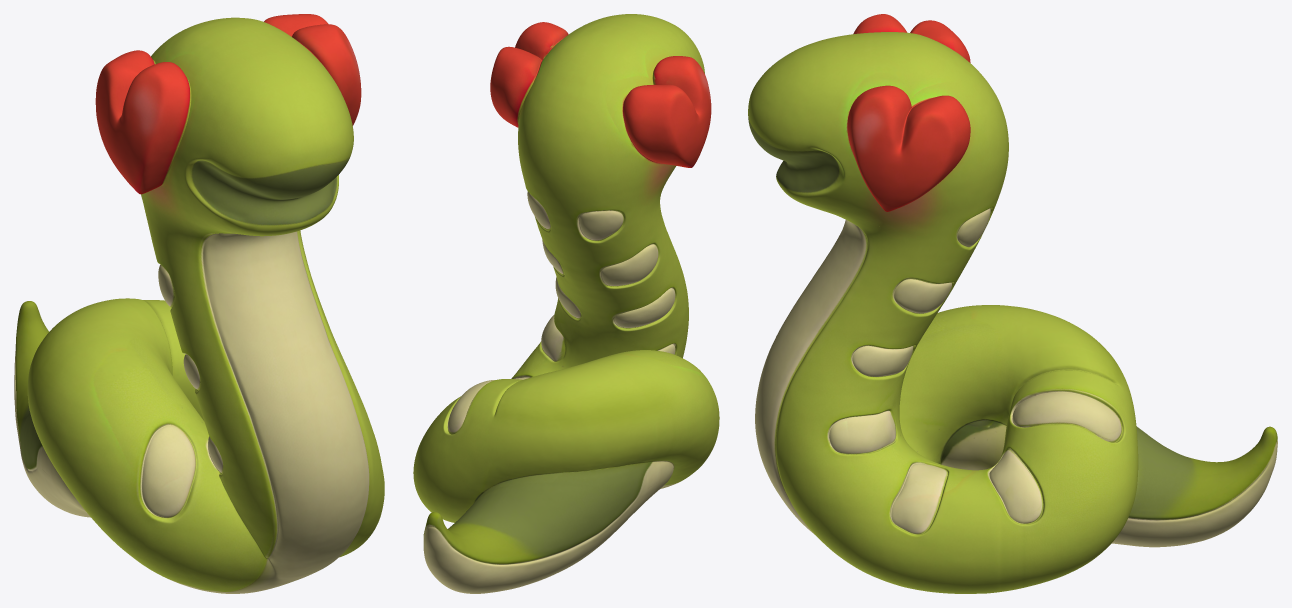
The model's file is snake_head.glb.
3 views of the same model, side by side, from view 1: azimuth 30°, elevation 25°; view 2: azimuth 150°, elevation 25°; view 3: azimuth 270°, elevation 25° (orthographic). The views are drawn at different scales.
Visible parts, largest first — view 1: tripo_node_1723ebde-afd6-41d7-ae2d-40ee41f8af5f; view 2: tripo_node_1723ebde-afd6-41d7-ae2d-40ee41f8af5f; view 3: tripo_node_1723ebde-afd6-41d7-ae2d-40ee41f8af5f.
Part boxes in pixels (box(x1,y1,x2,y2)): tripo_node_1723ebde-afd6-41d7-ae2d-40ee41f8af5f: box(14, 14, 384, 593); tripo_node_1723ebde-afd6-41d7-ae2d-40ee41f8af5f: box(413, 14, 719, 593); tripo_node_1723ebde-afd6-41d7-ae2d-40ee41f8af5f: box(748, 14, 1277, 593).
Size of the model in its own units: 0.5585 by 1 by 0.9572.
1 material, 1 textured.
